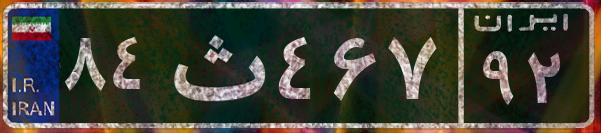2: (525, 38, 570, 115)
4: (273, 28, 330, 110), (110, 28, 158, 105)
6: (330, 28, 385, 110)
7: (385, 28, 445, 110)
8: (57, 26, 110, 107)
9: (475, 38, 525, 113)
ث: (158, 15, 273, 115)
